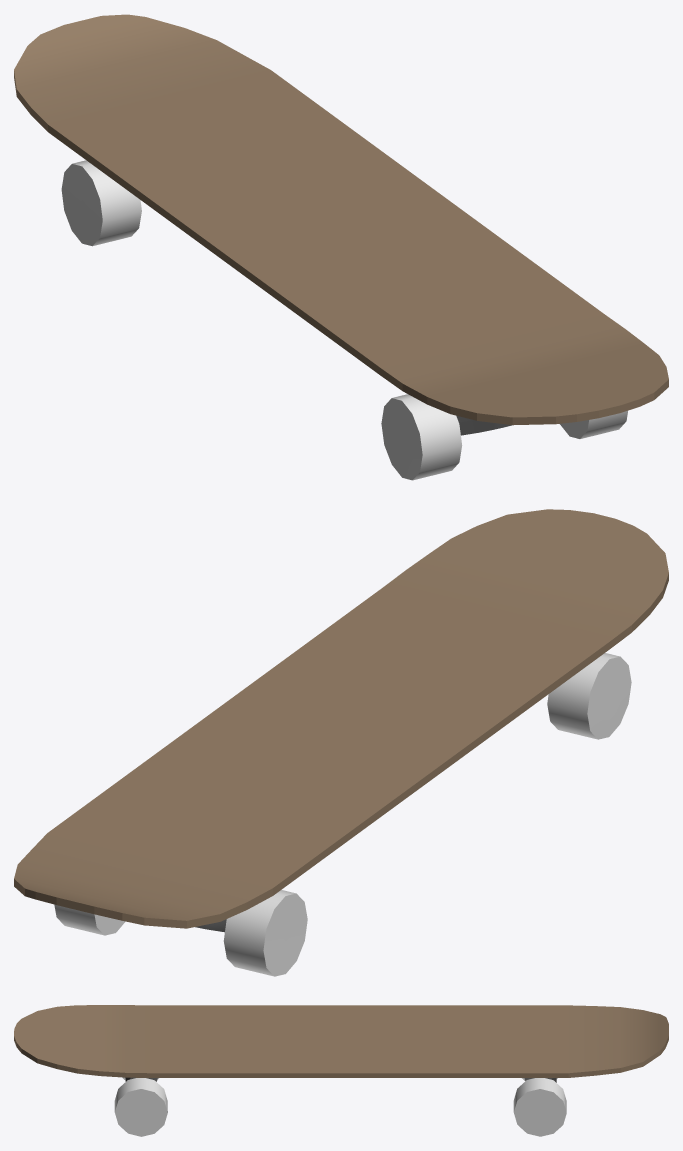
The model's file is skateboard.fbx.
3 views of the same model, one above another, from view 1: azimuth 30°, elevation 25°; view 2: azimuth 150°, elevation 25°; view 3: azimuth 270°, elevation 25° (orthographic). The views are drawn at different scales.
Parts seen in each view (by area): view 1: skateboard; view 2: skateboard; view 3: skateboard.
Part boxes in pixels (x1,y1,x2,y2): skateboard: (14,14,668,480); skateboard: (14,509,668,976); skateboard: (14,1005,668,1136).
Bounding box in the file's own units: 37.52 × 19.58 × 153.
